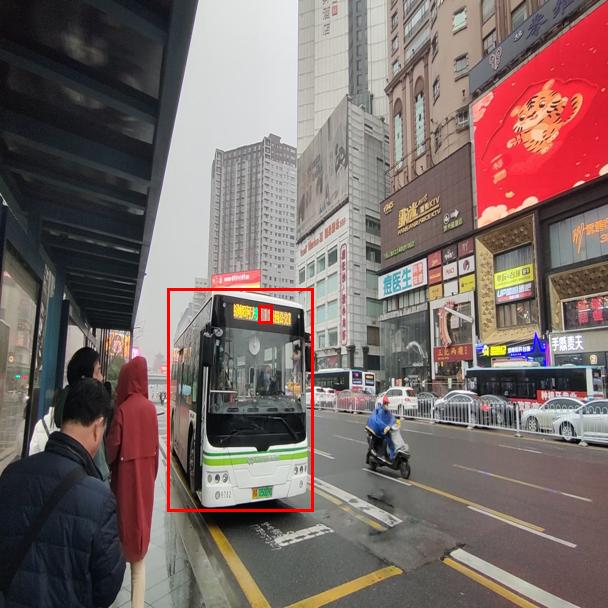bus: (167, 288, 313, 511)
screen: (258, 305, 272, 323)
